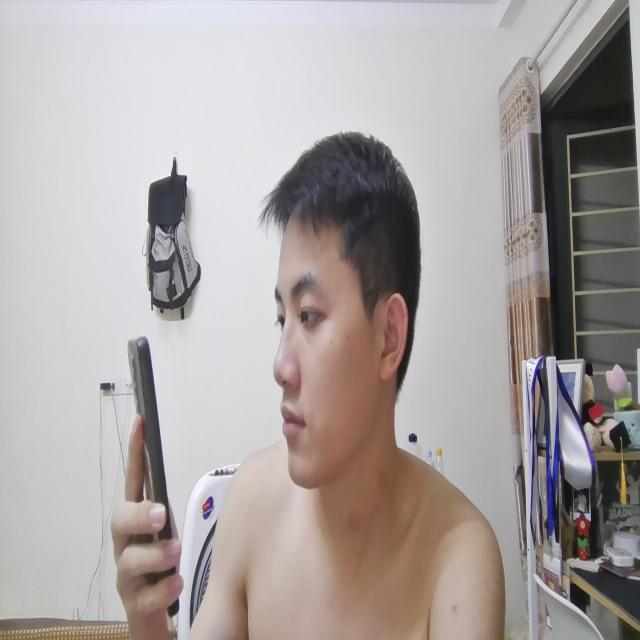phone: (114, 322, 186, 614)
student: (205, 113, 503, 640)
